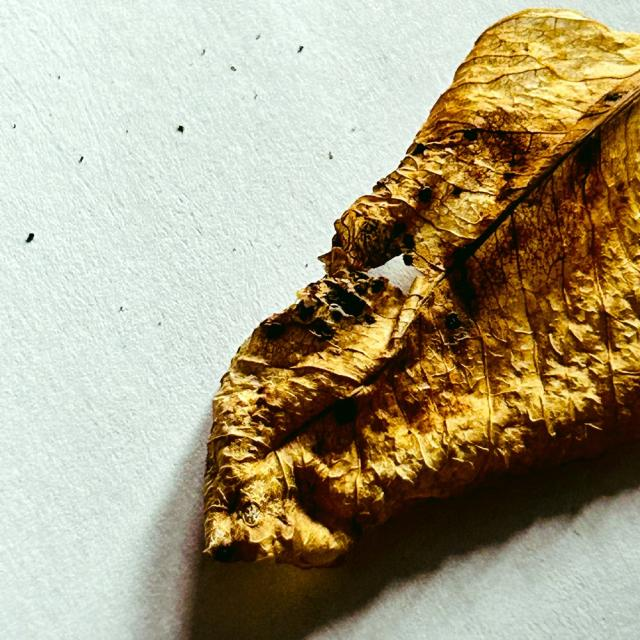DryLeaf_Lemon: (205, 10, 639, 567)
